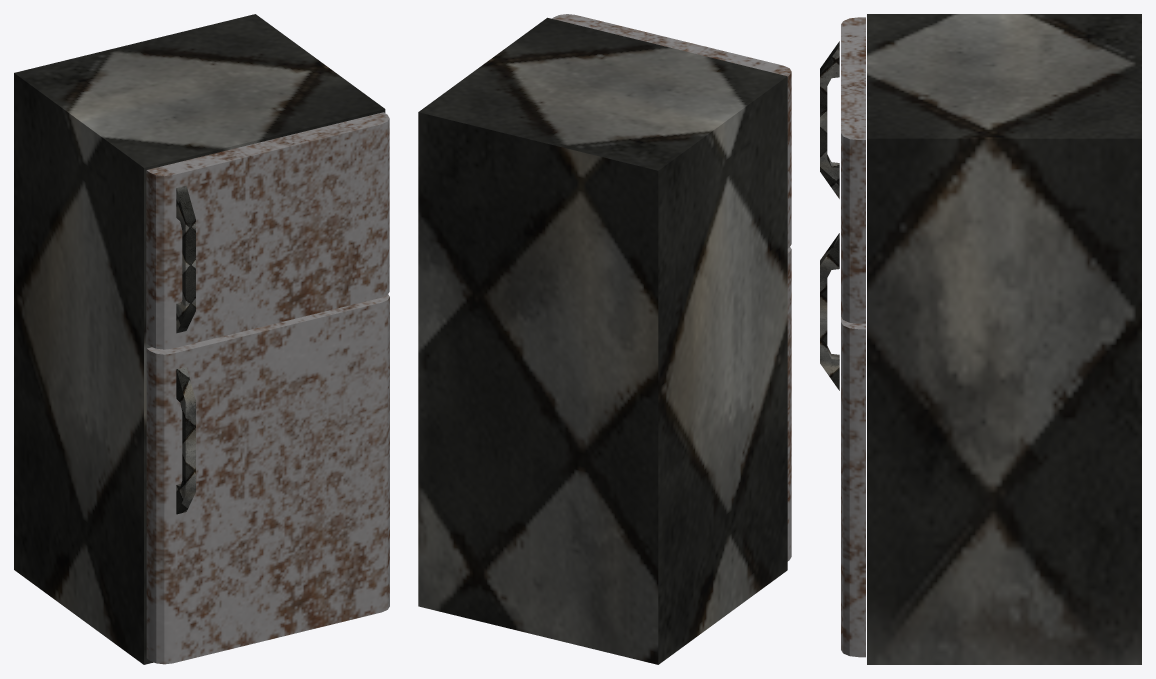
Rendered from refridgerator.glb.
The picture shows the model from 3 angles, left to right: view 1: azimuth 30°, elevation 25°; view 2: azimuth 150°, elevation 25°; view 3: azimuth 270°, elevation 25°; orthographic projection. The views are drawn at different scales.
Visible parts, largest first — view 1: Object_2, Object_3; view 2: Object_3, Object_2; view 3: Object_3, Object_2.
Part boxes in pixels (x1=…): Object_2: x1=146, y1=112, x2=389, y2=664; Object_3: x1=14, y1=14, x2=385, y2=664; Object_3: x1=418, y1=17, x2=787, y2=664; Object_2: x1=552, y1=14, x2=791, y2=561; Object_3: x1=820, y1=14, x2=1141, y2=664; Object_2: x1=841, y1=17, x2=865, y2=657.
Bounding box in the file's own units: 1.46 × 2.87 × 1.59.
Materials: 2 (2 with a texture image).
